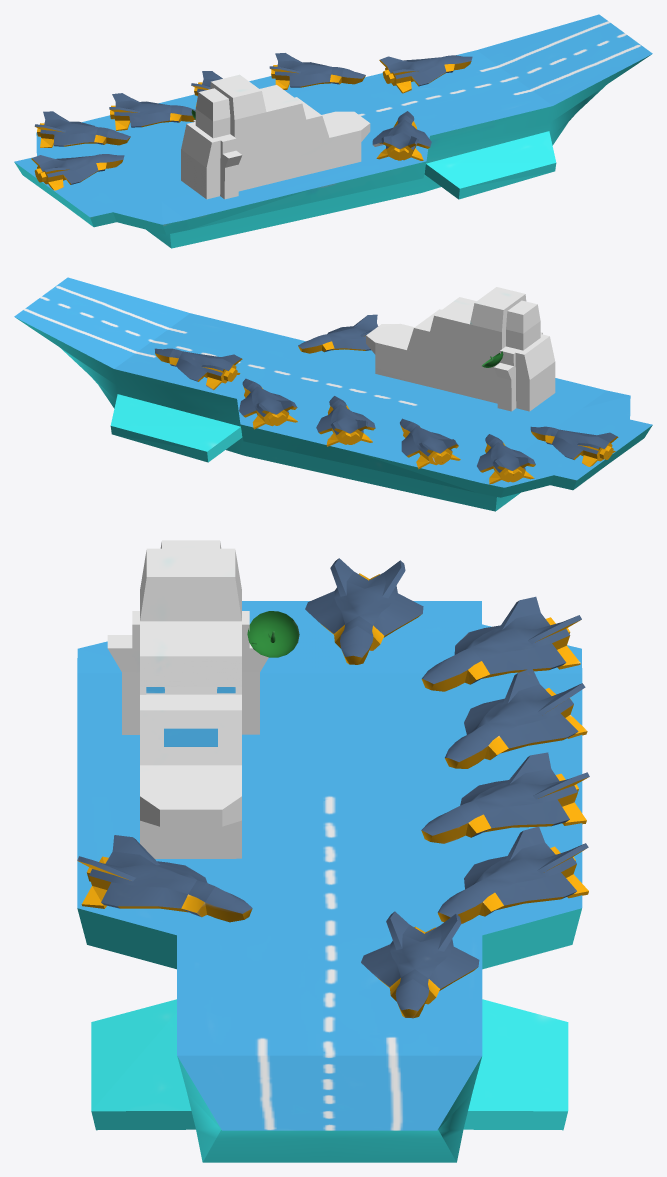
The model's file is AircraftCarrier.FBX.
The picture shows the model from 3 angles, top to bottom: view 1: azimuth 30°, elevation 25°; view 2: azimuth 150°, elevation 25°; view 3: azimuth 270°, elevation 25°; orthographic projection. The views are drawn at different scales.
Parts seen in each view (by area): view 1: Box001; view 2: Box001; view 3: Box001.
Part boxes in pixels (x1=…): Box001: x1=14, y1=14, x2=652, y2=248; Box001: x1=14, y1=277, x2=652, y2=511; Box001: x1=77, y1=540, x2=589, y2=1162.
Bounding box in the file's own units: 220 × 56.13 × 84.29.
Materials: 1 (1 with a texture image).
